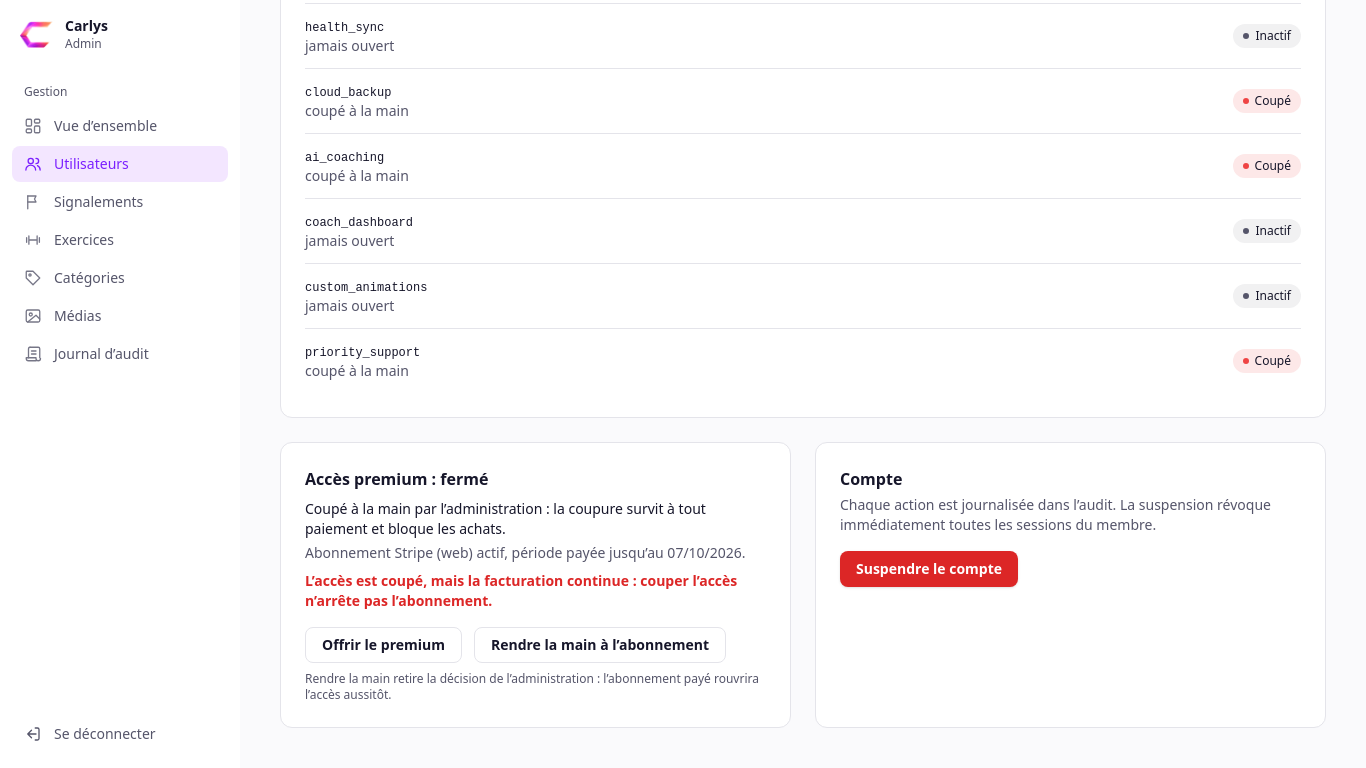
Fiche utilisateur › accès premium › « Rendre la main à l’abonnement » lève une coupure manuelle
The width and height of the screenshot is (1366, 768).
(page scrolled)
Check: the text "Coupé à la main" is shown, box [305,499,706,538]
Check: the text "l’abonnement payé rouvrira l’accès" is shown, box [305,670,759,703]
Click the button "Rendre la main à l’abonnement". click: (600,645)
box: [474,627,726,663]
(page scrolled)
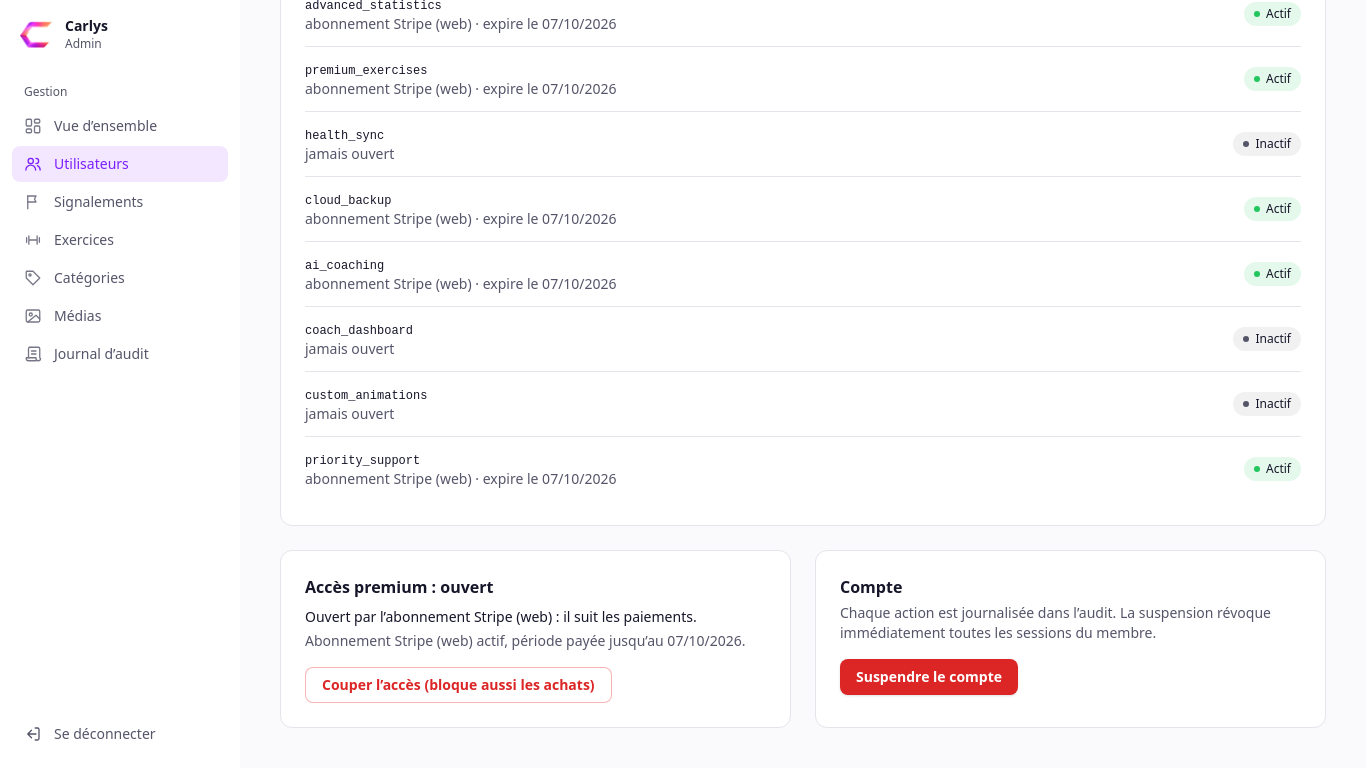
Check: the text "Ouvert par l’abonnement" is shown, box [305,607,697,626]
